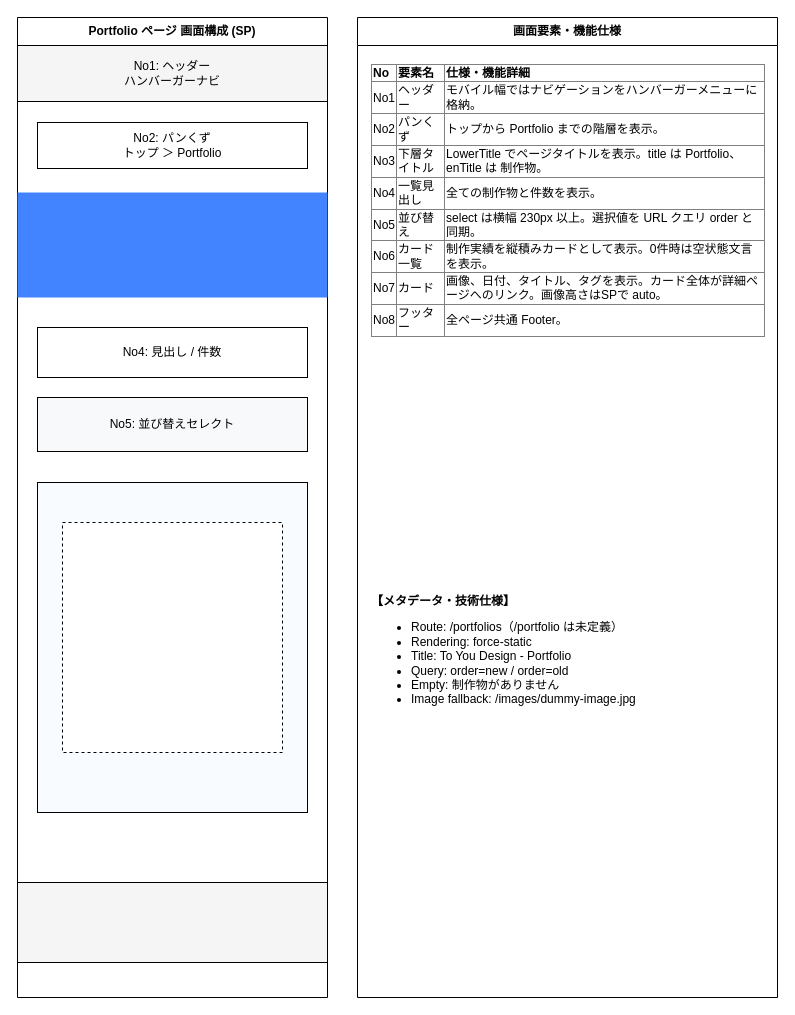
Image size: 795x1015. Some labels were removed from this diagram. The centre of each missing label's shape, as x and y in pixels:
"No3: 下層タイトル Portfolio / 制作物" belongs at pixel 172 244.
"No7: カード要素 画像 / 日付 / タイトル / タグ" belongs at pixel 172 637.
"No8: フッター" belongs at pixel 172 922.
